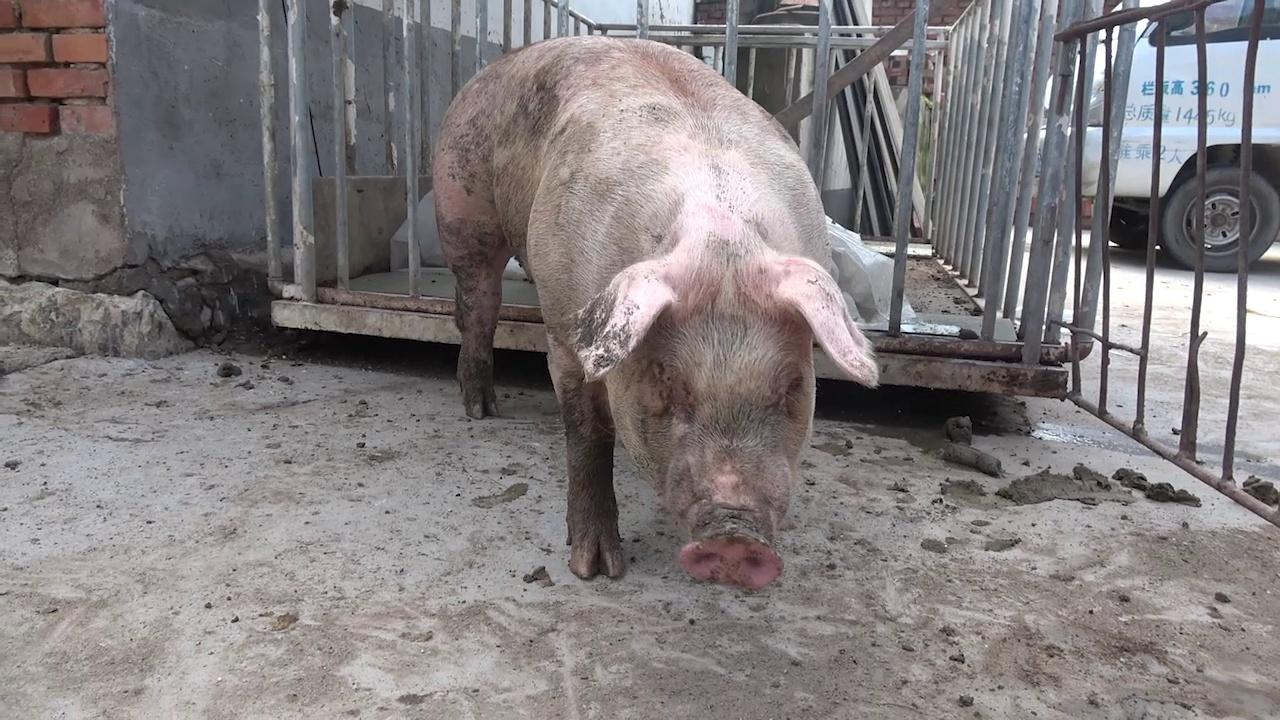Face: (547, 245, 886, 594)
